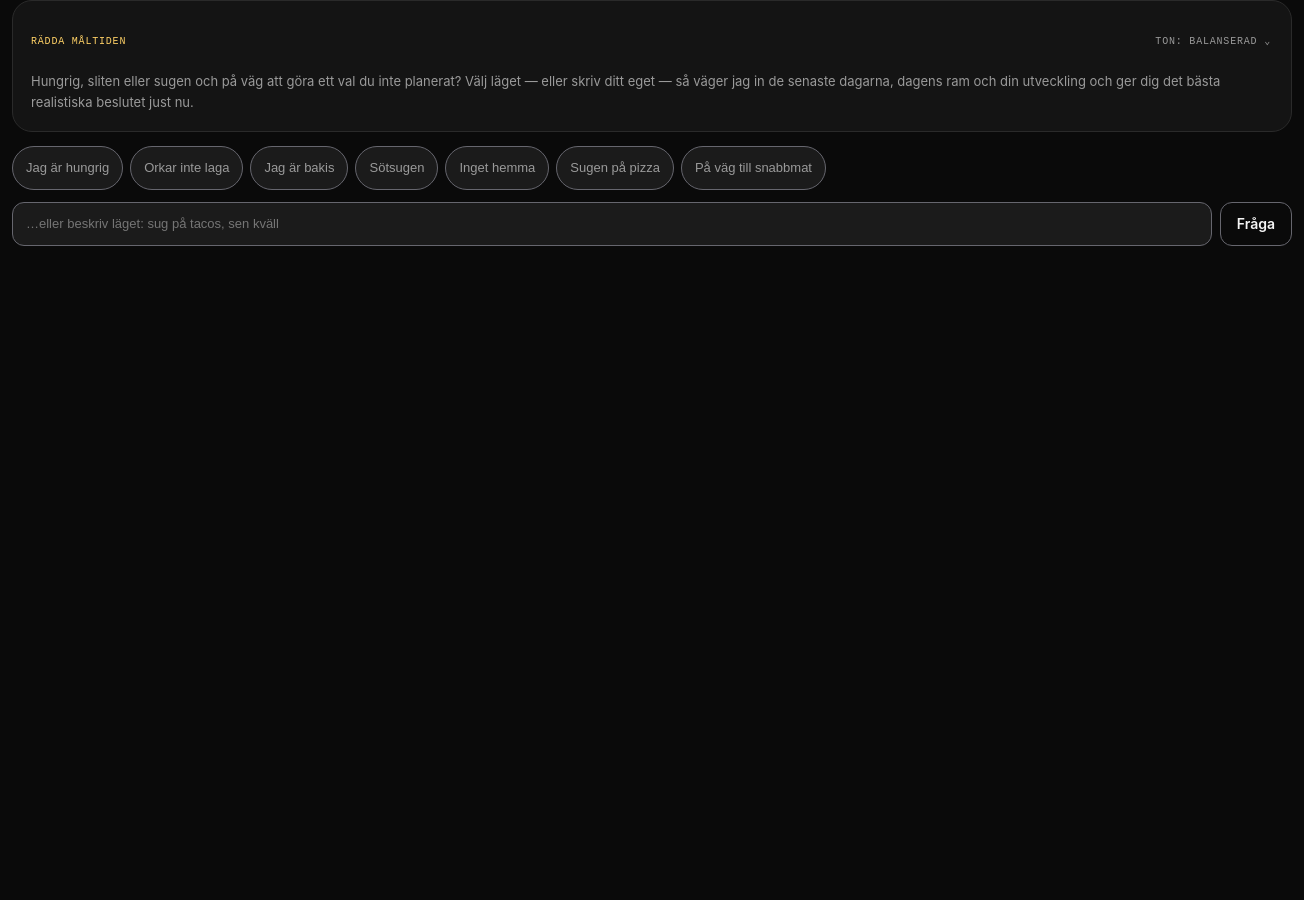
Test: matakuten i gränssnittet › visar dagens kvarvarande ram när ett mål finns
Click the button "Jag är hungrig".
click(68, 168)  # box [12,146,123,190]
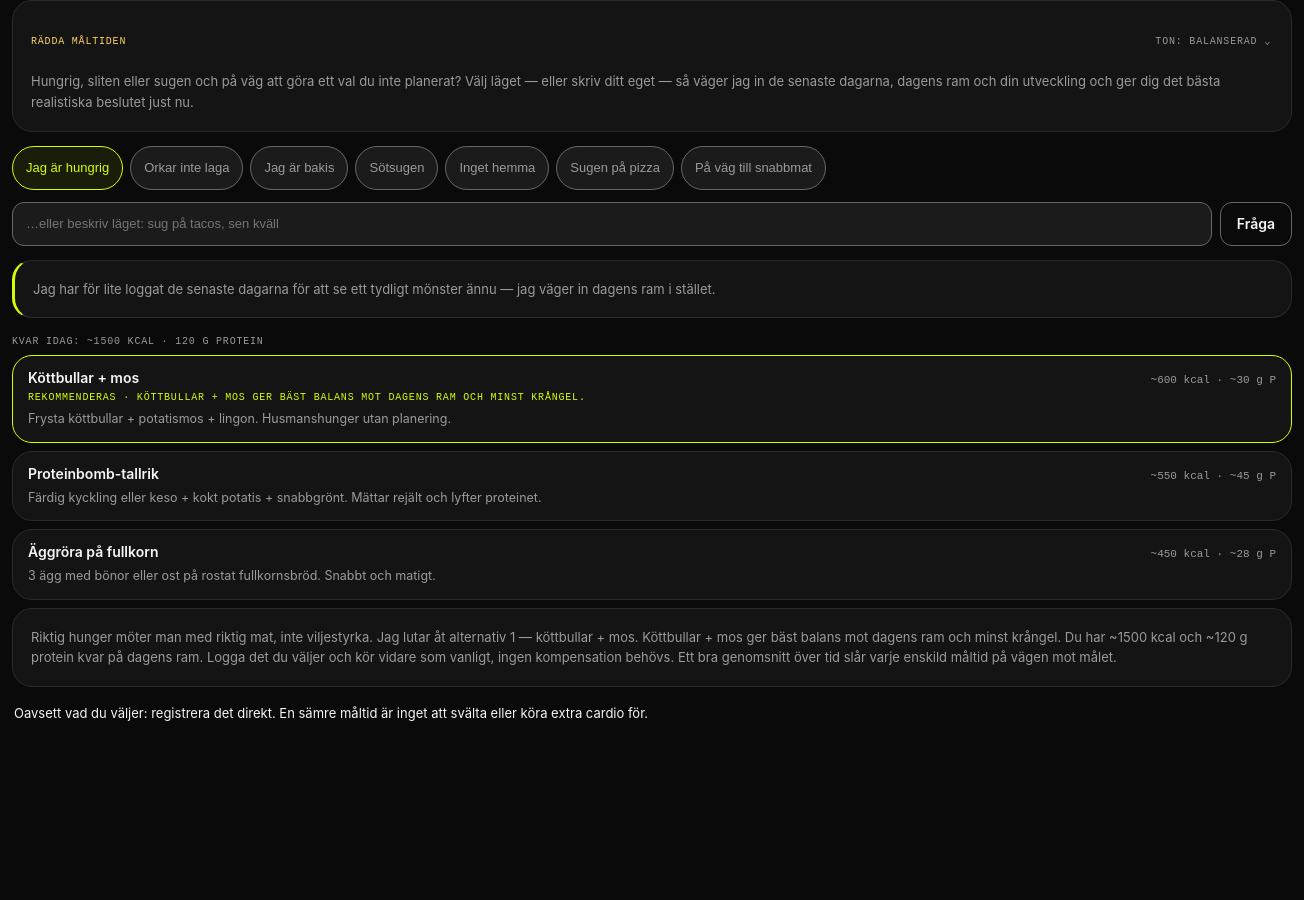
Check: the text "Kvar idag" is shown, box [12,336,264,347]
Check: the text "1500" is shown, box [12,336,264,347]
